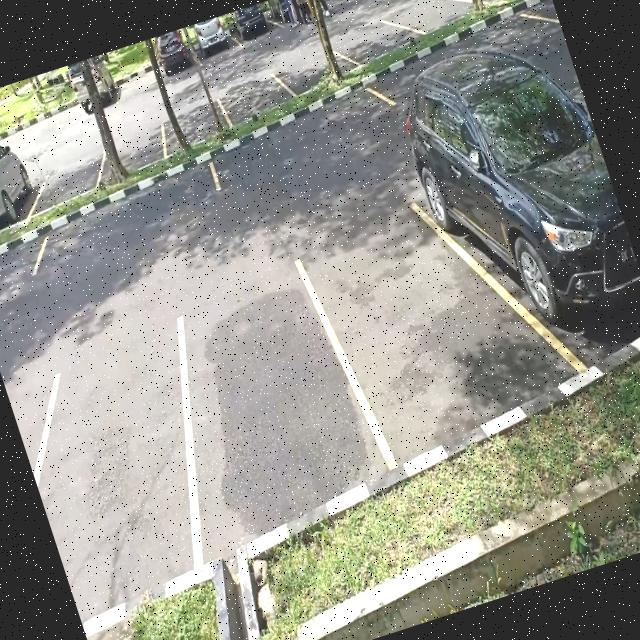empty: (151, 270, 395, 553), (15, 342, 232, 615), (296, 205, 518, 464), (21, 164, 230, 278), (204, 86, 403, 198), (28, 140, 116, 208), (92, 116, 174, 182), (274, 38, 352, 100), (216, 68, 292, 128), (335, 11, 411, 70), (156, 96, 233, 152), (396, 0, 478, 43)
occupied: (410, 91, 640, 369), (0, 137, 48, 247)
